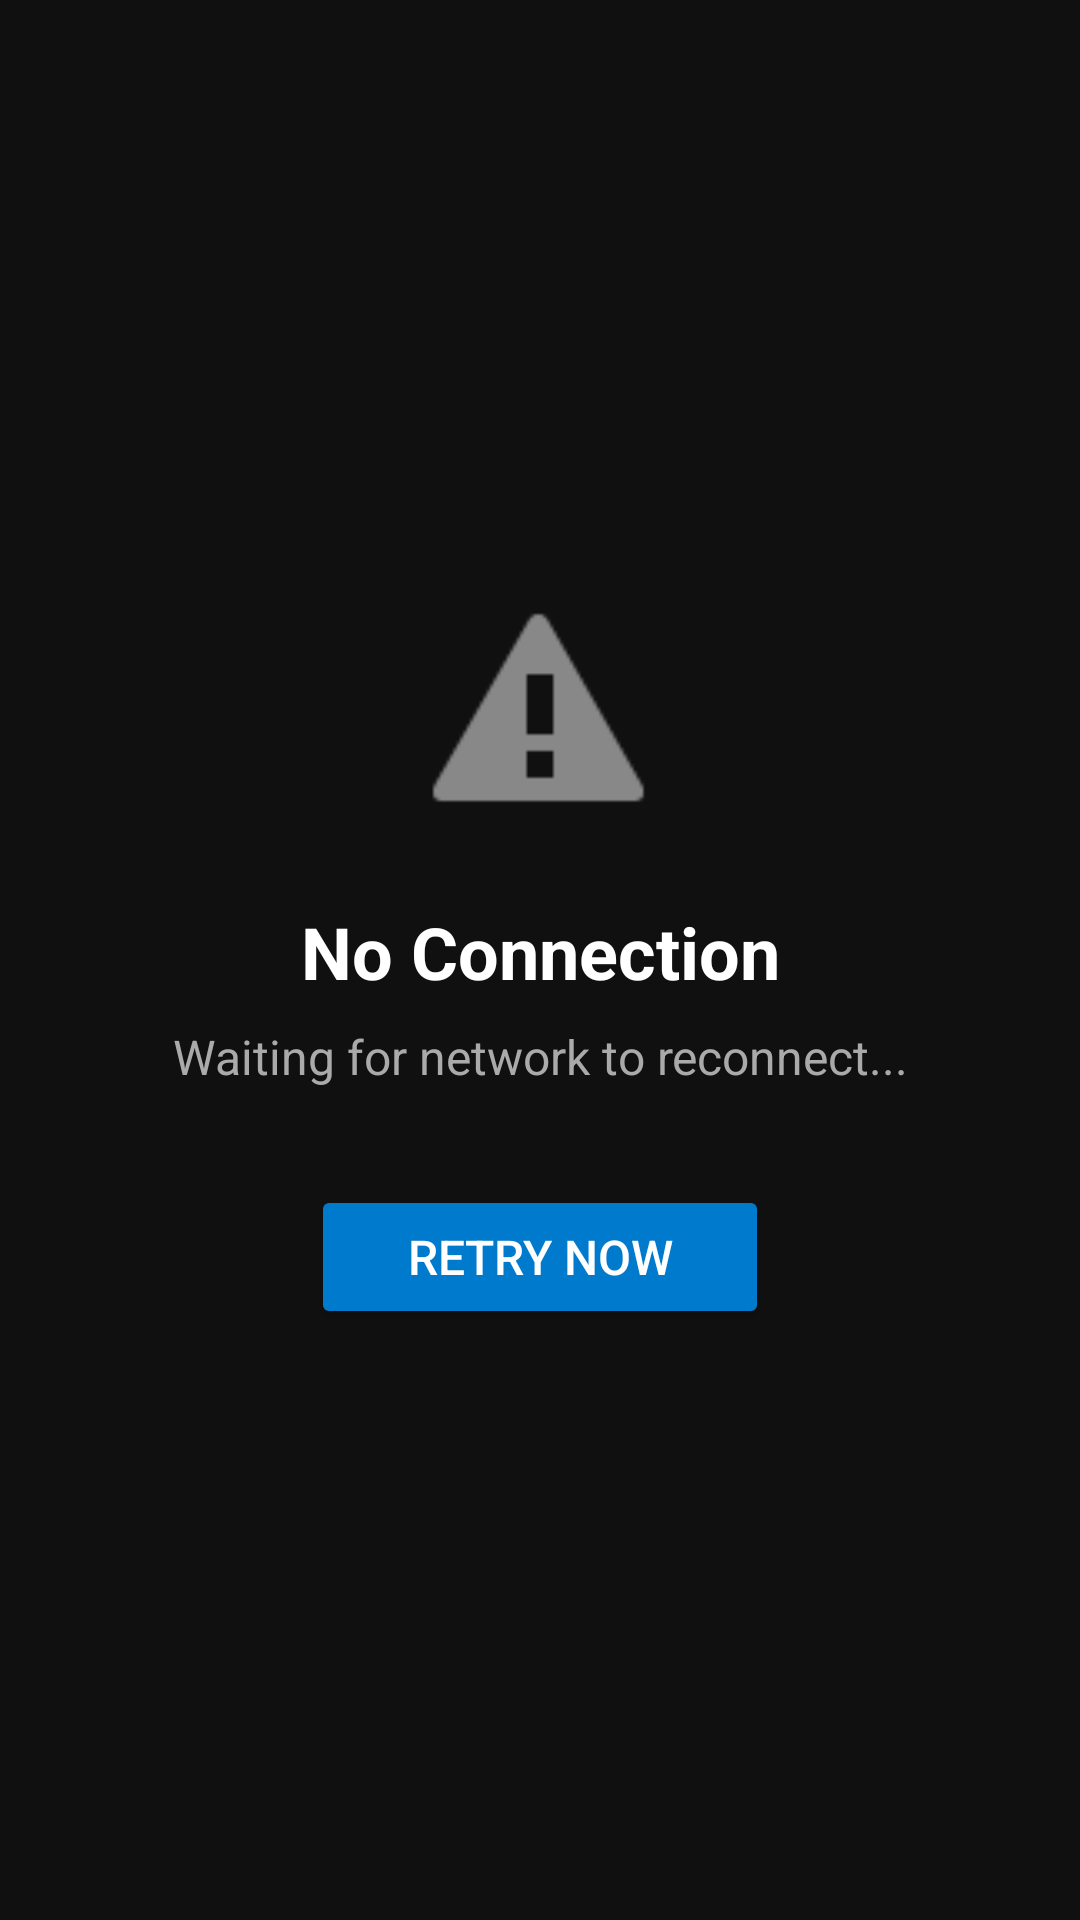

Icons on this 1080w x 1920h Android screen, each with the point to tap as (x=x, y=y):
warning: (x=538, y=707)
